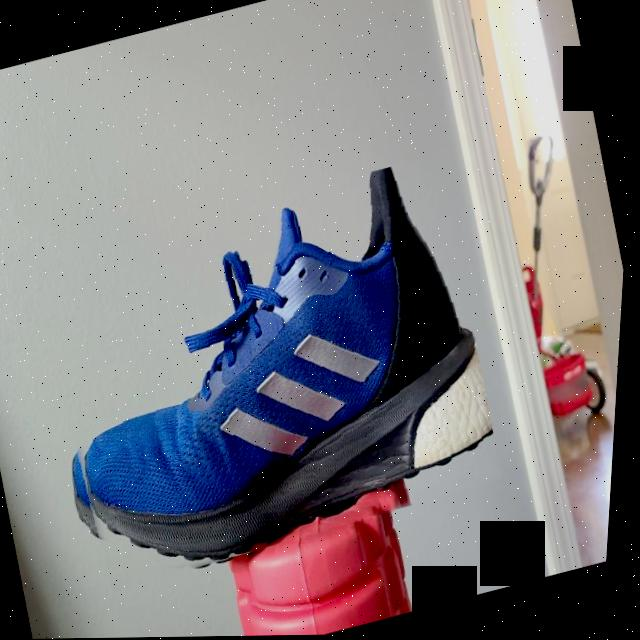shoe: (16, 154, 526, 598)
